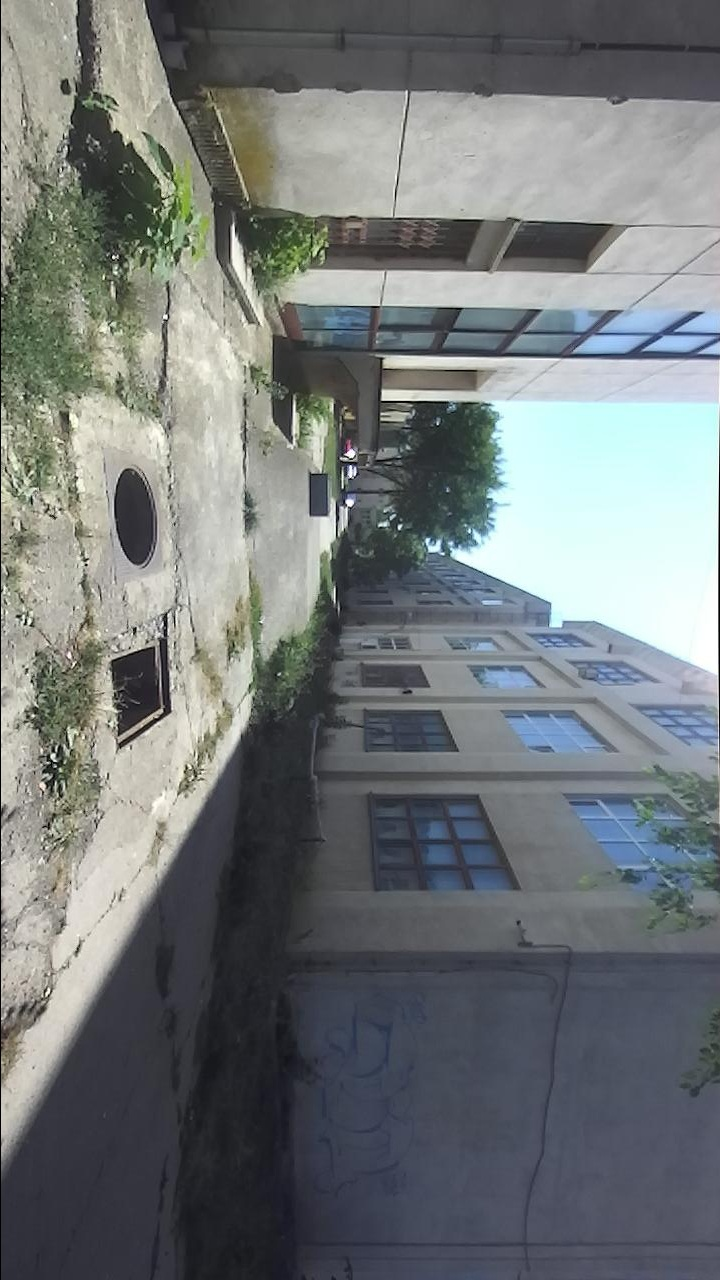drain: (108, 632, 177, 753), (111, 457, 161, 572)
